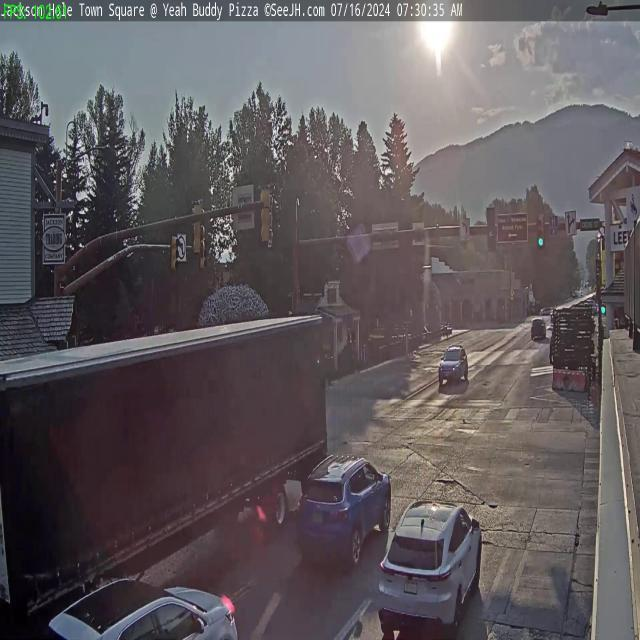suv: (374, 498, 486, 640), (44, 572, 242, 640), (294, 452, 392, 568), (438, 342, 468, 387), (530, 316, 547, 339)
traffic light: (260, 184, 273, 244), (190, 200, 203, 256), (486, 208, 496, 255), (170, 234, 180, 272), (536, 214, 546, 248)
